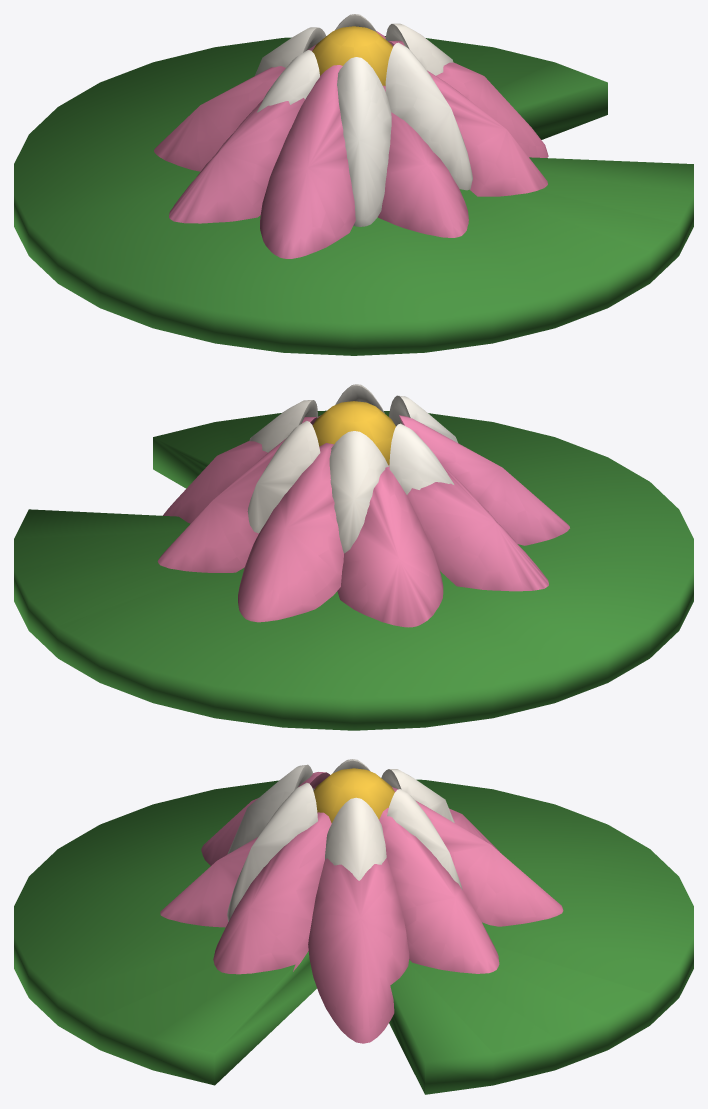
The model's file is glade_lily_flower.glb.
The picture shows the model from 3 angles, top to bottom: view 1: azimuth 30°, elevation 25°; view 2: azimuth 150°, elevation 25°; view 3: azimuth 270°, elevation 25°; orthographic projection.
Parts seen in each view (by area): view 1: glade_lily_flower; view 2: glade_lily_flower; view 3: glade_lily_flower.
Boxes of the visible parts, x1=… form: glade_lily_flower: x1=14, y1=14, x2=693, y2=355; glade_lily_flower: x1=14, y1=384, x2=693, y2=730; glade_lily_flower: x1=14, y1=759, x2=693, y2=1094.
Bounding box in the file's own units: 7.31 × 2.2 × 7.35.
